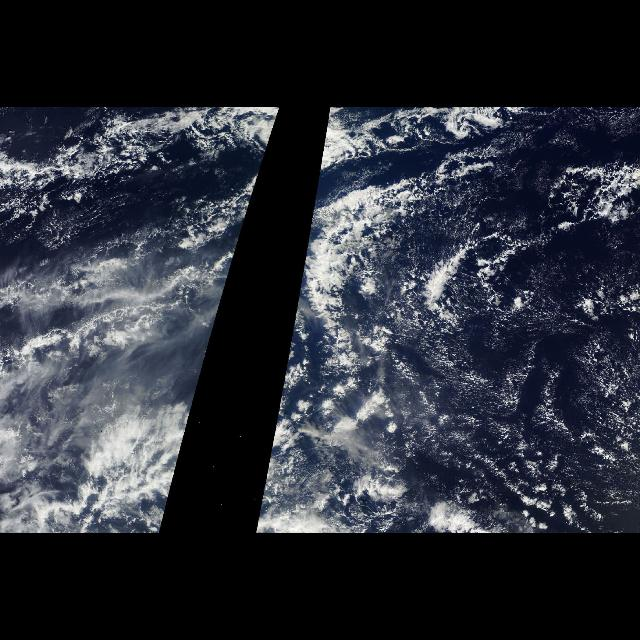Gravel: (330, 162, 638, 530)
Sugar: (402, 358, 598, 439)
